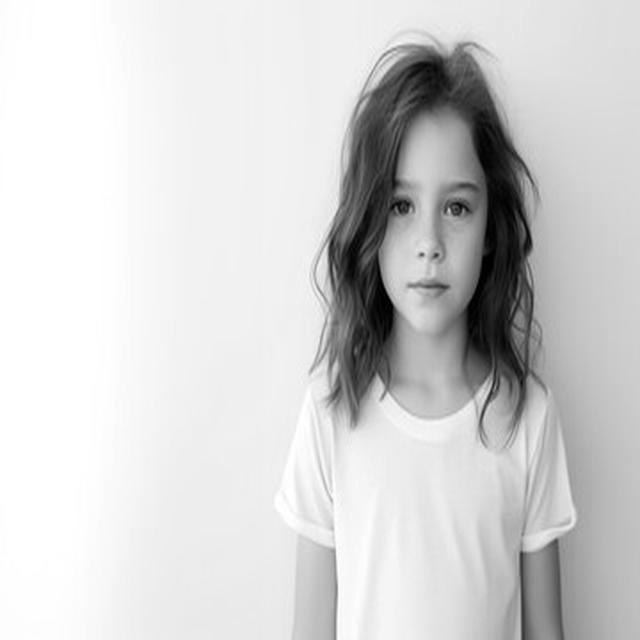Neutral: (378, 110, 488, 333)
